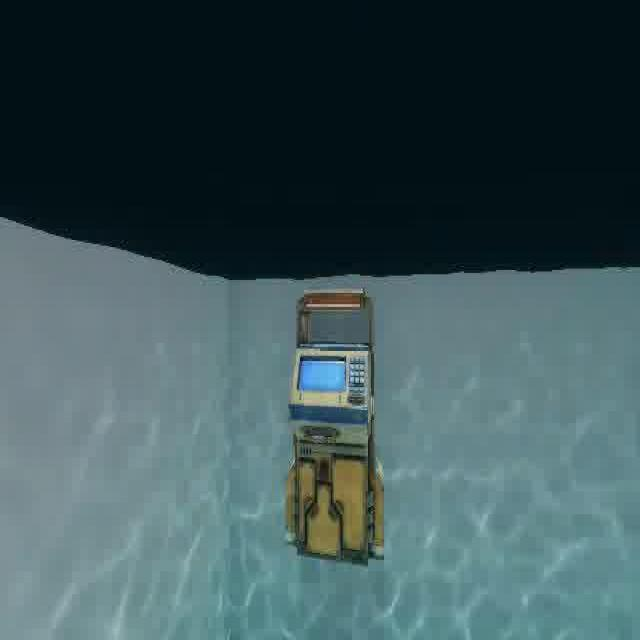Control Panel: (282, 280, 390, 574)
